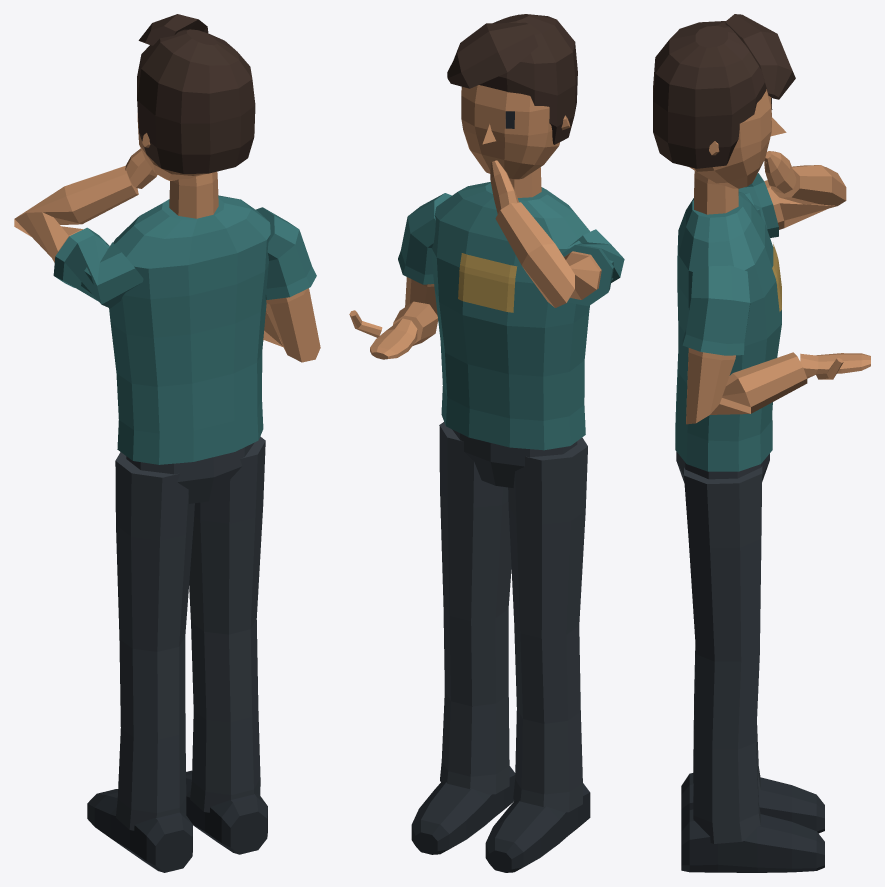
File: lwf_attendee_male_eating_v2.glb
The picture shows the model from 3 angles, left to right: view 1: azimuth 30°, elevation 25°; view 2: azimuth 150°, elevation 25°; view 3: azimuth 270°, elevation 25°; orthographic projection.
Parts seen in each view (by area): view 1: Attendee_male_eating_v6; view 2: Attendee_male_eating_v6; view 3: Attendee_male_eating_v6.
Part boxes in pixels (x1,y1,x2,y2): Attendee_male_eating_v6: (14,14,320,872); Attendee_male_eating_v6: (349,14,624,872); Attendee_male_eating_v6: (653,14,870,872).
Bounding box in the file's own units: 0.534 × 1.78 × 0.4261.
Materials: 1 (1 with a texture image).
